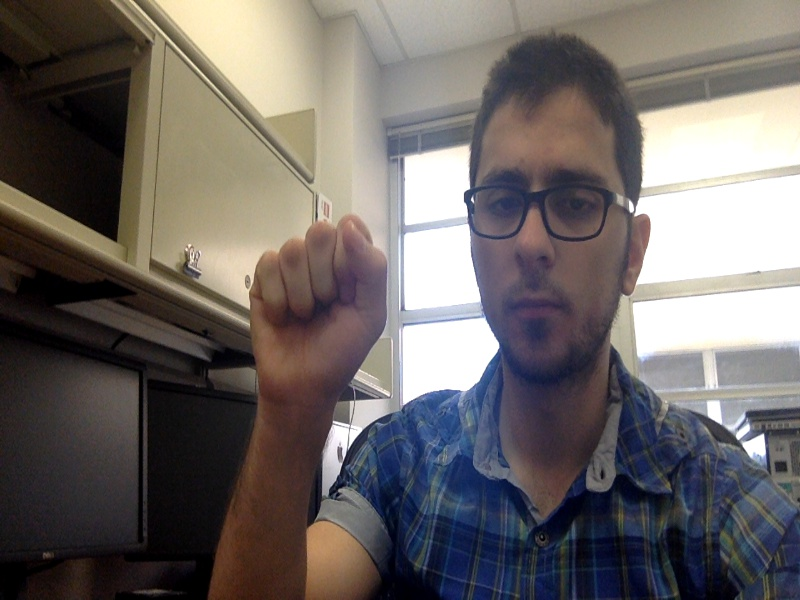0-hand: (249, 214, 388, 403)
